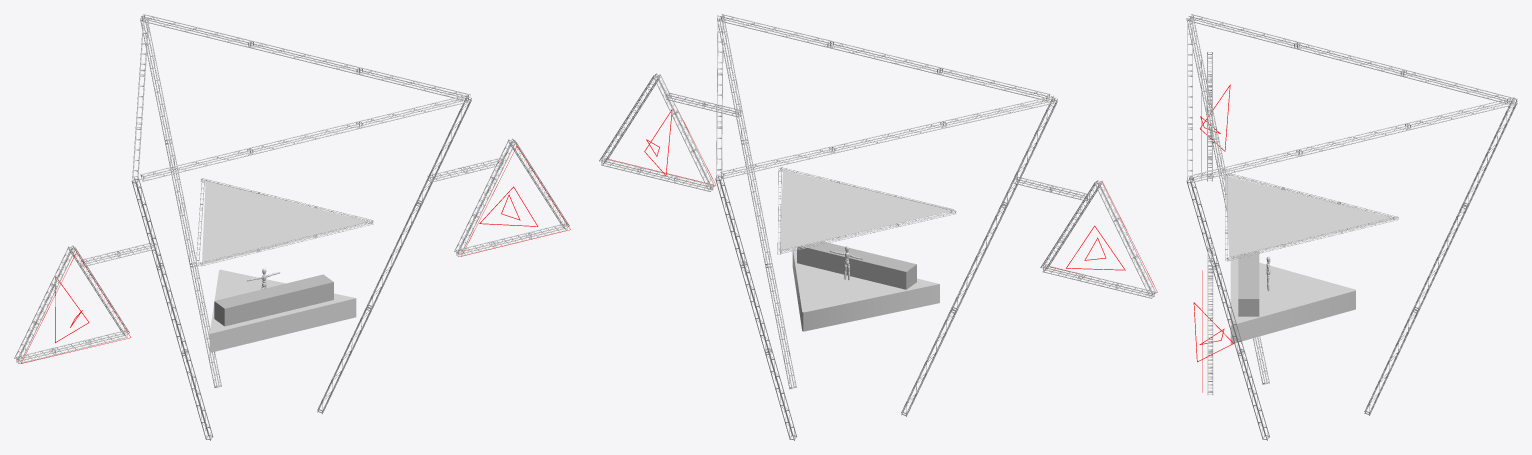
The model's file is STAAAGGe_FinalV3.fbx.
3 views of the same model, side by side, from view 1: azimuth 30°, elevation 25°; view 2: azimuth 150°, elevation 25°; view 3: azimuth 270°, elevation 25° (orthographic).
Visible parts, largest first — view 1: Polygon_1, StageFloor, DJbooth, truss_10_a_1, truss_10_a_2, truss_10_a_2_3, truss_10_a_2_4, truss_10_a, truss_10_a_1_3, truss_10_a_1_4, truss_10_a_2_7, truss_10_a_2_5 (+4 smaller); view 2: Polygon_1, StageFloor, DJbooth, truss_10_a_2_4, truss_10_a_2_2, truss_10_a_2, truss_10_a, truss_10_a_1, truss_10_a_1_3, truss_10_a_1_4, truss_10_a_2_6, truss_10_a_2_9 (+5 smaller); view 3: Polygon_1, StageFloor, truss_10_a_2_3, truss_10_a_2_2, truss_10_a_1, truss_10_a_2_4, truss_10_a, DJbooth, truss_10_a_1_2, truss_10_a_4, truss_10_a_2_6, truss_10_a_2.
Part boxes in pixels (left/top/right/bottom): Polygon_1: left=202, top=181, right=366, bottom=263; StageFloor: left=209, top=269, right=356, bottom=352; DJbooth: left=214, top=274, right=333, bottom=326; truss_10_a_1: left=140, top=18, right=221, bottom=387; truss_10_a_2: left=140, top=94, right=470, bottom=181; truss_10_a_2_3: left=141, top=14, right=470, bottom=101; truss_10_a_2_4: left=317, top=98, right=471, bottom=414; truss_10_a: left=131, top=177, right=213, bottom=440; truss_10_a_1_3: left=14, top=246, right=75, bottom=361; truss_10_a_1_4: left=454, top=139, right=515, bottom=254; truss_10_a_2_7: left=16, top=330, right=127, bottom=363; truss_10_a_2_5: left=200, top=220, right=373, bottom=266; Polygon_1: left=779, top=170, right=952, bottom=250; StageFloor: left=792, top=248, right=939, bottom=331; DJbooth: left=797, top=241, right=916, bottom=289; truss_10_a_2_4: left=717, top=17, right=796, bottom=389; truss_10_a_2_2: left=720, top=95, right=1056, bottom=178; truss_10_a_2: left=719, top=14, right=1050, bottom=101; truss_10_a: left=901, top=99, right=1057, bottom=416; truss_10_a_1: left=715, top=175, right=796, bottom=440; truss_10_a_1_3: left=1095, top=181, right=1156, bottom=296; truss_10_a_1_4: left=653, top=74, right=714, bottom=189; truss_10_a_2_6: left=780, top=210, right=956, bottom=253; truss_10_a_2_9: left=601, top=158, right=713, bottom=191; Polygon_1: left=1224, top=175, right=1392, bottom=256; StageFloor: left=1230, top=256, right=1355, bottom=344; truss_10_a_2_3: left=1189, top=97, right=1517, bottom=182; truss_10_a_2_2: left=1188, top=14, right=1510, bottom=104; truss_10_a_1: left=1364, top=99, right=1517, bottom=415; truss_10_a_2_4: left=1186, top=177, right=1269, bottom=440; truss_10_a: left=1186, top=17, right=1269, bottom=384; DJbooth: left=1238, top=251, right=1259, bottom=316; truss_10_a_1_2: left=1226, top=216, right=1398, bottom=261; truss_10_a_4: left=1207, top=268, right=1213, bottom=392; truss_10_a_2_6: left=1226, top=172, right=1395, bottom=219; truss_10_a_2: left=1187, top=18, right=1192, bottom=181.
Bounding box in the file's own units: 3041 × 1674 × 1587.
